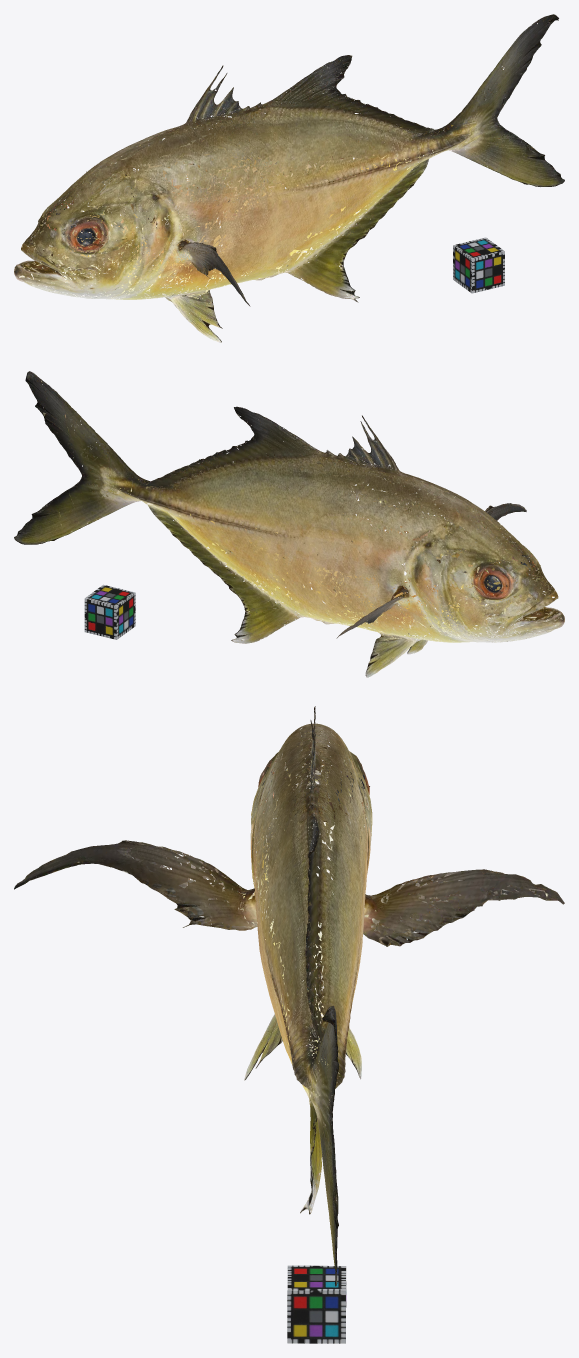
Rendered from scan_trevally.glb.
3 renders of one model, top to bottom at view 1: azimuth 30°, elevation 25°; view 2: azimuth 150°, elevation 25°; view 3: azimuth 270°, elevation 25°, orthographic. The views are drawn at different scales.
Parts seen in each view (by area): view 1: Object_10, Object_6, Object_4; view 2: Object_6, Object_10, Object_4; view 3: Object_10, Object_6, Object_4.
Boxes of the visible parts, <box> form: Object_10: <box>14,14,564,342</box>; Object_6: <box>14,14,554,342</box>; Object_4: <box>453,237,504,293</box>; Object_6: <box>25,371,564,675</box>; Object_10: <box>14,371,562,677</box>; Object_4: <box>84,584,135,639</box>; Object_10: <box>14,706,564,1286</box>; Object_6: <box>17,707,563,1275</box>; Object_4: <box>287,1265,346,1343</box>.
Bounding box in the file's own units: 12.47 × 6.02 × 6.95.
3 materials, 3 textured.
